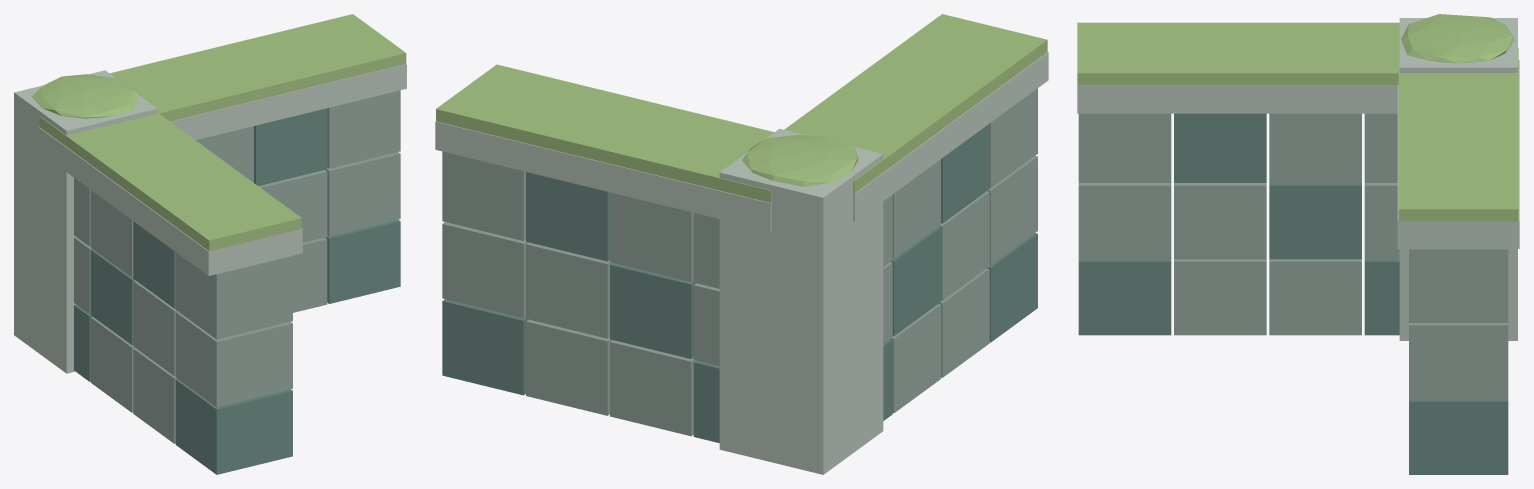
File: wall-corner-mossy.glb
3 views of the same model, side by side, from view 1: azimuth 30°, elevation 25°; view 2: azimuth 150°, elevation 25°; view 3: azimuth 270°, elevation 25° (orthographic). The views are drawn at different scales.
Parts seen in each view (by area): view 1: wall-corner-kit-mossy-stone, wall-corner-kit-mossy-top, wall-corner-kit-mossy-light, wall-corner-kit-mossy-shade; view 2: wall-corner-kit-mossy-stone, wall-corner-kit-mossy-light, wall-corner-kit-mossy-top, wall-corner-kit-mossy-shade; view 3: wall-corner-kit-mossy-stone, wall-corner-kit-mossy-top, wall-corner-kit-mossy-shade, wall-corner-kit-mossy-light.
Part boxes in pixels (x1,y1,x2,y2): wall-corner-kit-mossy-stone: (74, 90, 400, 443); wall-corner-kit-mossy-top: (32, 14, 406, 251); wall-corner-kit-mossy-light: (14, 64, 406, 373); wall-corner-kit-mossy-shade: (74, 108, 400, 474); wall-corner-kit-mossy-stone: (442, 88, 1037, 436); wall-corner-kit-mossy-light: (435, 52, 1048, 474); wall-corner-kit-mossy-top: (436, 14, 1047, 202); wall-corner-kit-mossy-shade: (442, 123, 1037, 442); wall-corner-kit-mossy-stone: (1078, 113, 1508, 398); wall-corner-kit-mossy-top: (1077, 14, 1518, 221); wall-corner-kit-mossy-shade: (1078, 113, 1508, 474); wall-corner-kit-mossy-light: (1077, 18, 1519, 340).
Size of the model in its own units: 2.32 by 1.64 by 2.32.
